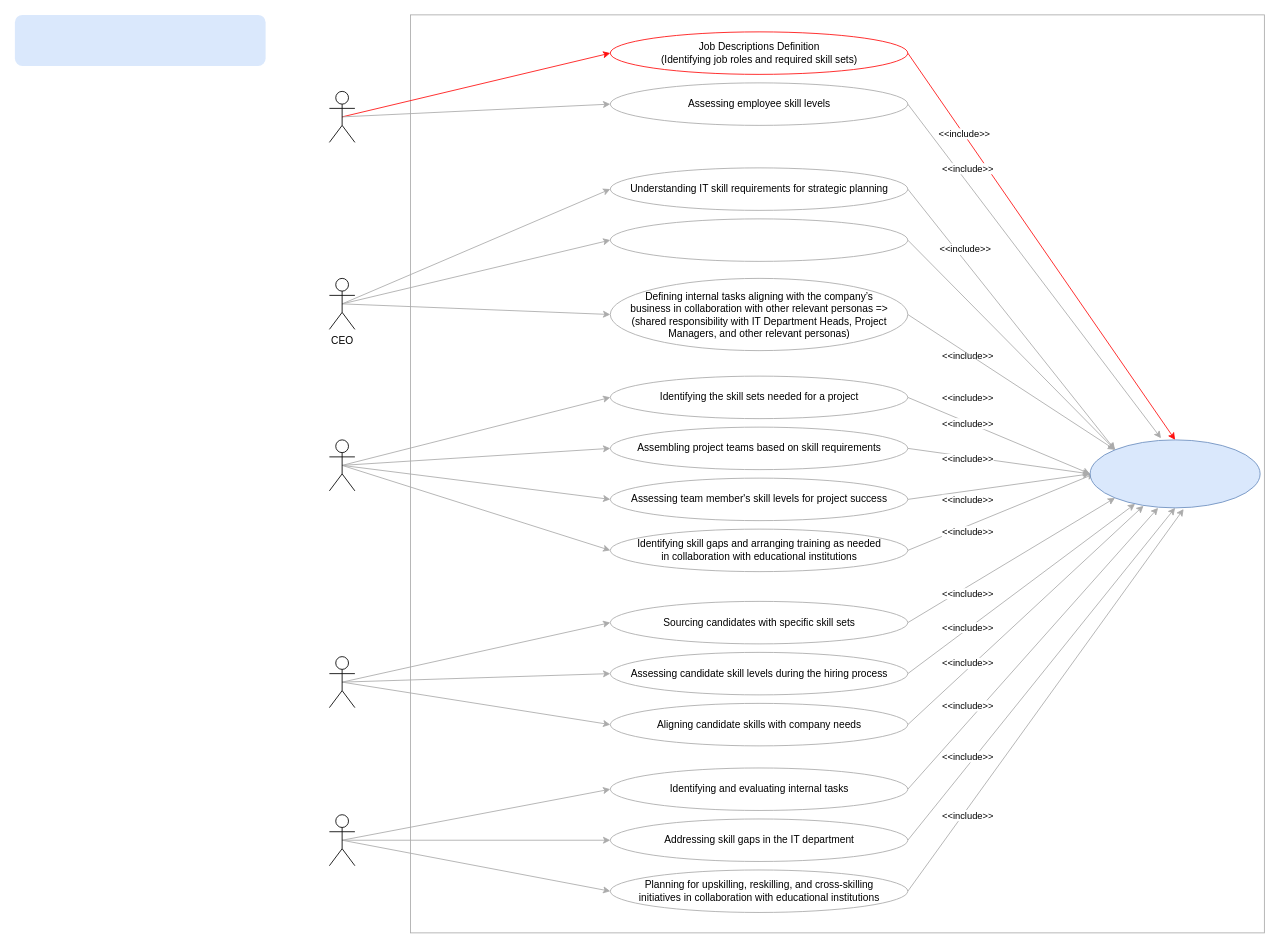
This 1279x948 diagram has some shape labels left out. Here are the shapes that lost their labels. From the top down, the centre of each, then its label:
At (x=139, y=39): "Companies/Organizations use cases".
At (x=342, y=116): "HR Manager".
At (x=758, y=239): "Ensuring alignment of IT workforce with company goals".
At (x=342, y=465): "Project Manager".
At (x=1174, y=473): "Authentication".
At (x=342, y=682): "Internal and Consultant Recruiter".
At (x=342, y=840): "IT Department Head".
